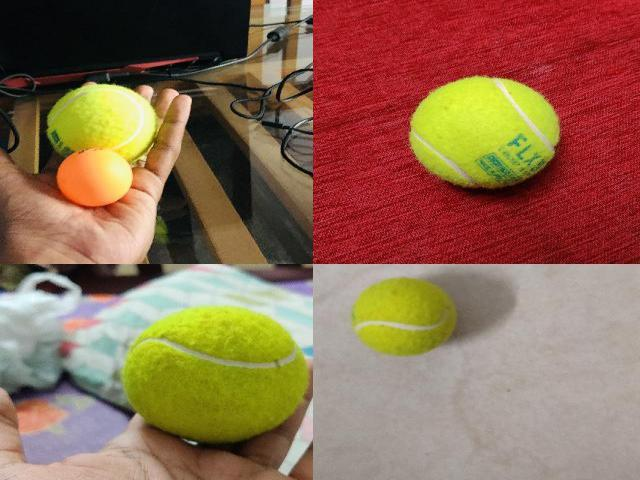tennis-ball: (120, 304, 310, 442), (408, 74, 560, 188), (46, 84, 158, 165), (350, 278, 456, 355)
